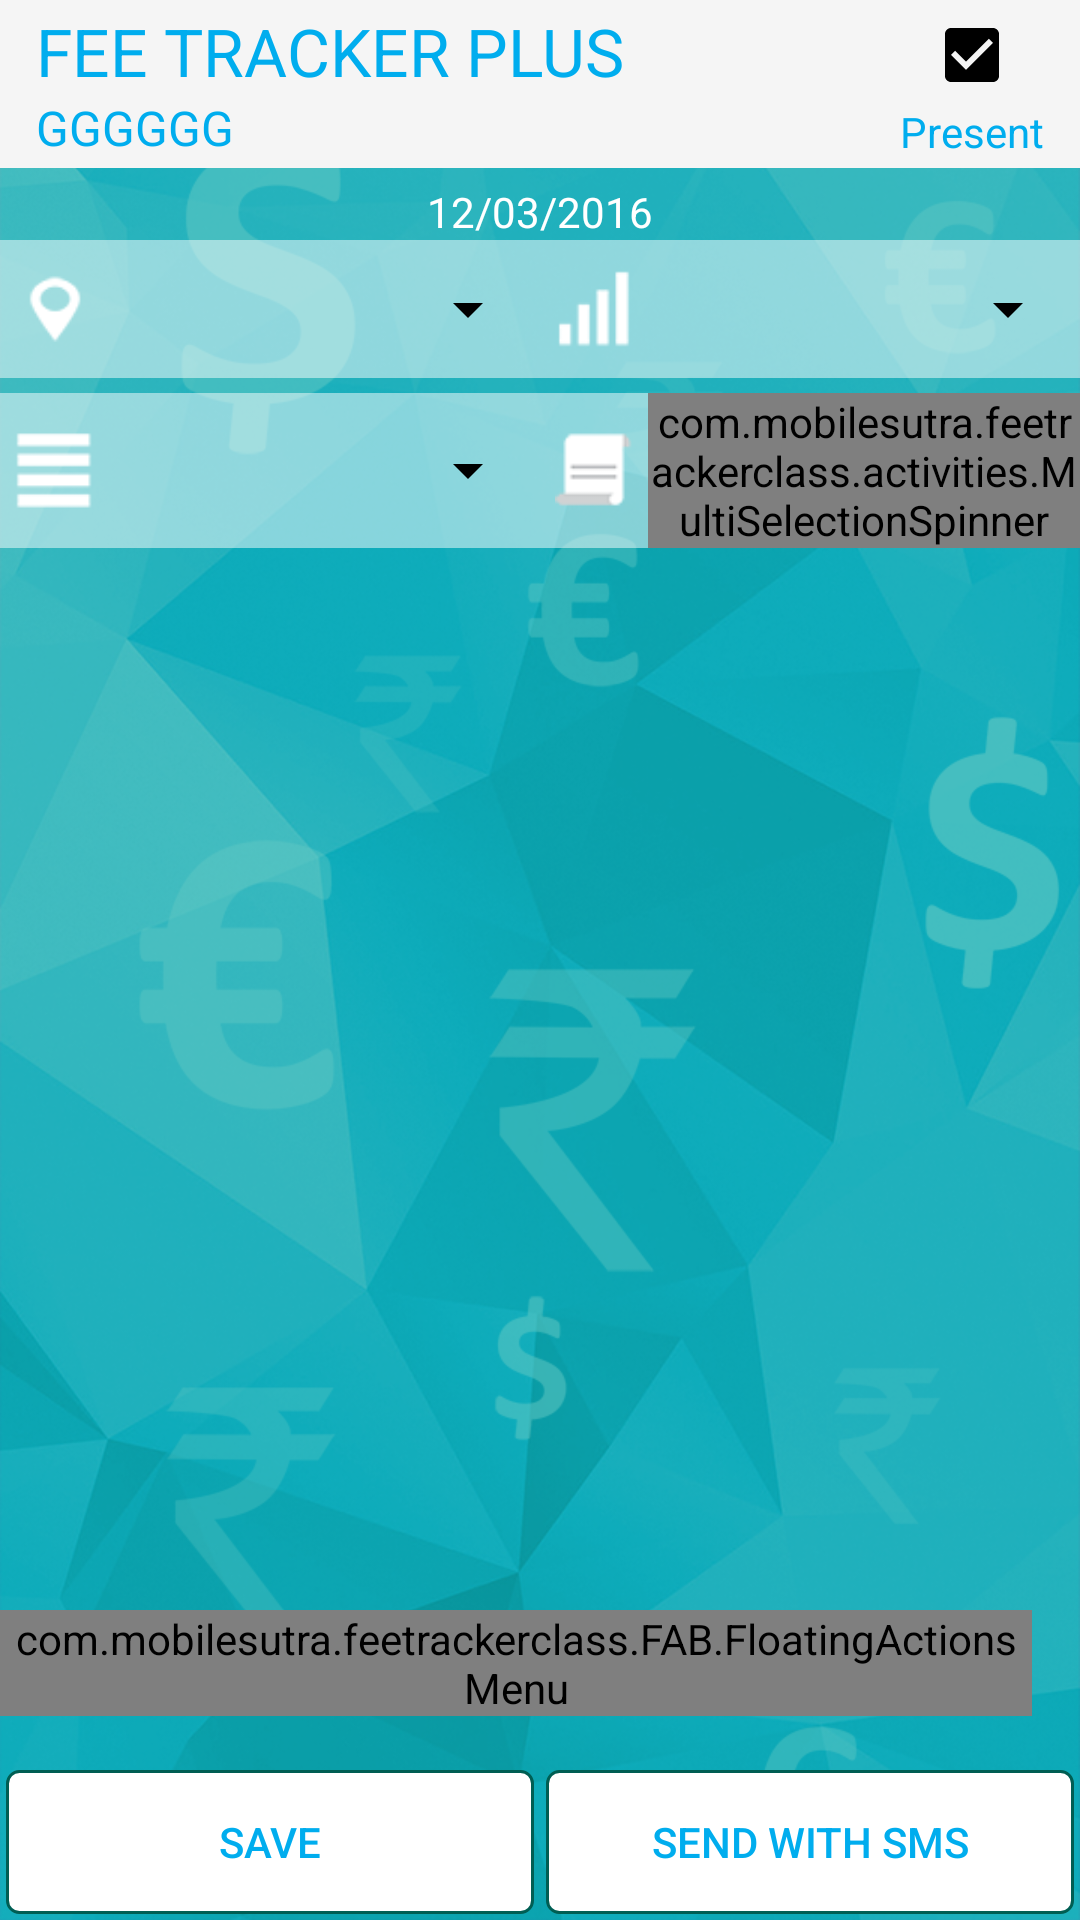

Icon click points for this 1080×1920 phone screenshot, format (x,y):
branchloca: (55,309)
subjectstile: (593,469)
